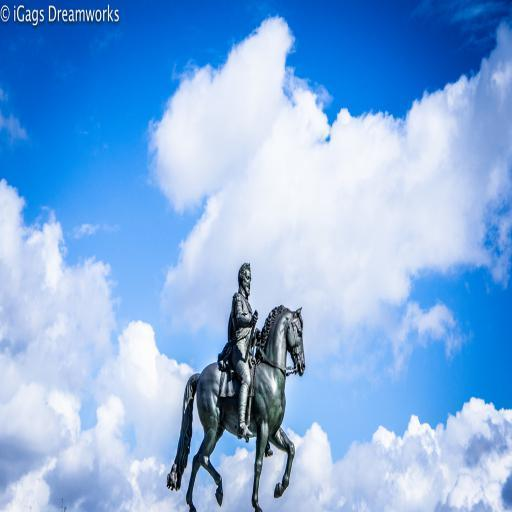horse: (166, 304, 307, 512)
